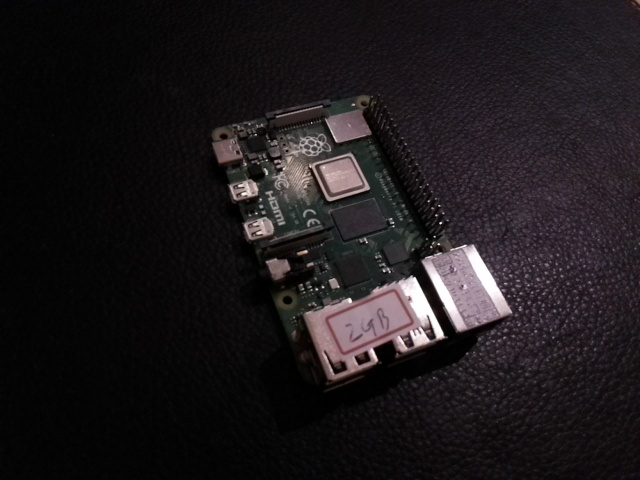pi4: (179, 78, 515, 414)
